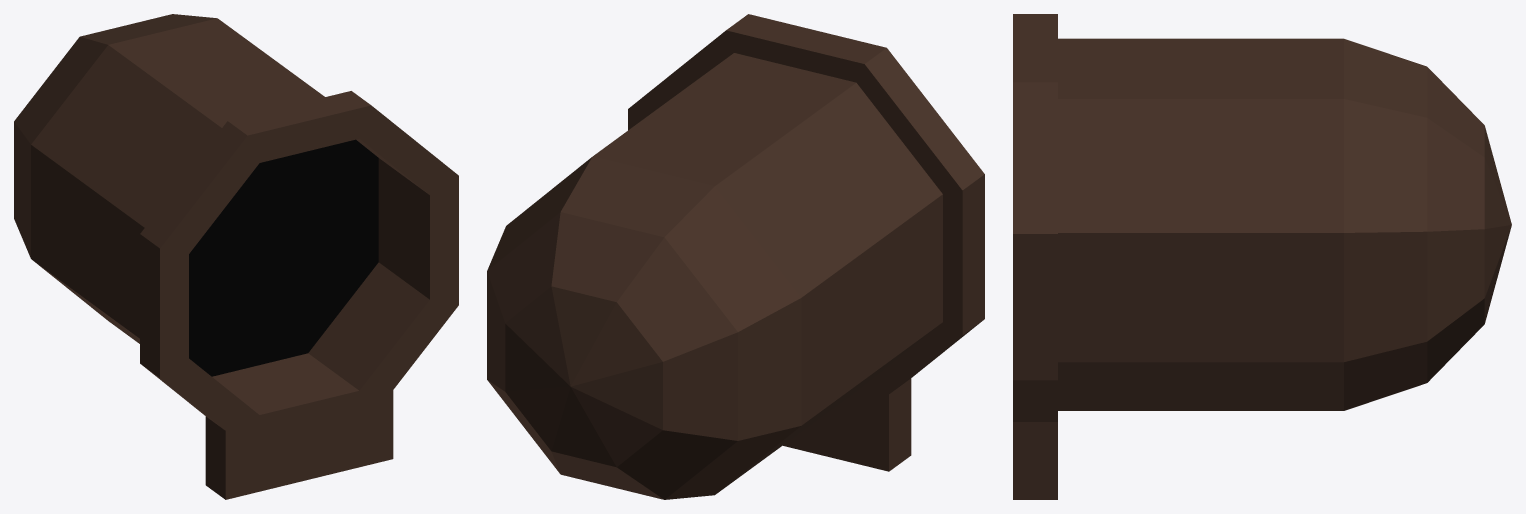
File: PipeEnd.fbx
3 renders of one model, left to right at view 1: azimuth 30°, elevation 25°; view 2: azimuth 150°, elevation 25°; view 3: azimuth 270°, elevation 25°, orthographic. The views are drawn at different scales.
Parts seen in each view (by area): view 1: Cylinder.001; view 2: Cylinder.001; view 3: Cylinder.001.
Boxes of the visible parts, x1=… form: Cylinder.001: x1=14, y1=14, x2=458, y2=499; Cylinder.001: x1=487, y1=14, x2=984, y2=499; Cylinder.001: x1=1013, y1=14, x2=1511, y2=499.
Size of the model in its own units: 36.71 by 42.13 by 46.96.
